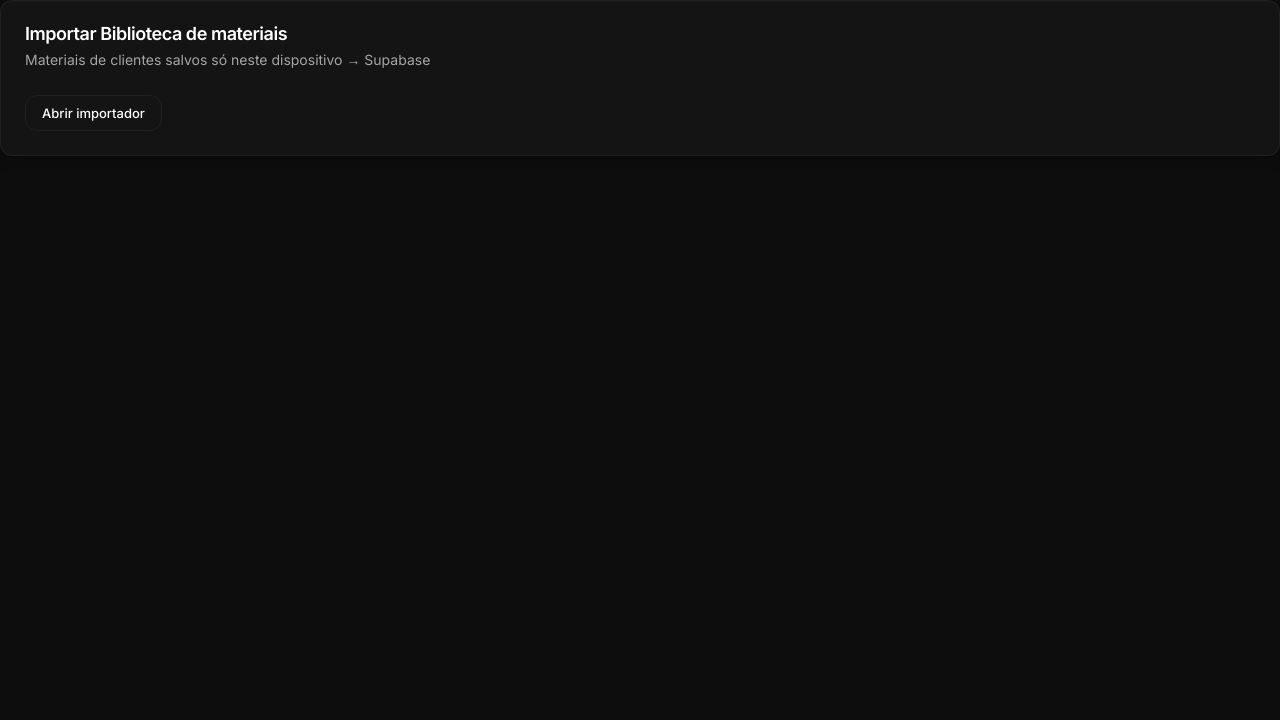
it: ClientLibraryImportCard › sem candidatos: mensagem honesta de nada a importar
This screenshot has width=1280, height=720.
Click the button "Abrir importador": click(93, 113) top-left (25, 95), bottom-right (162, 131)
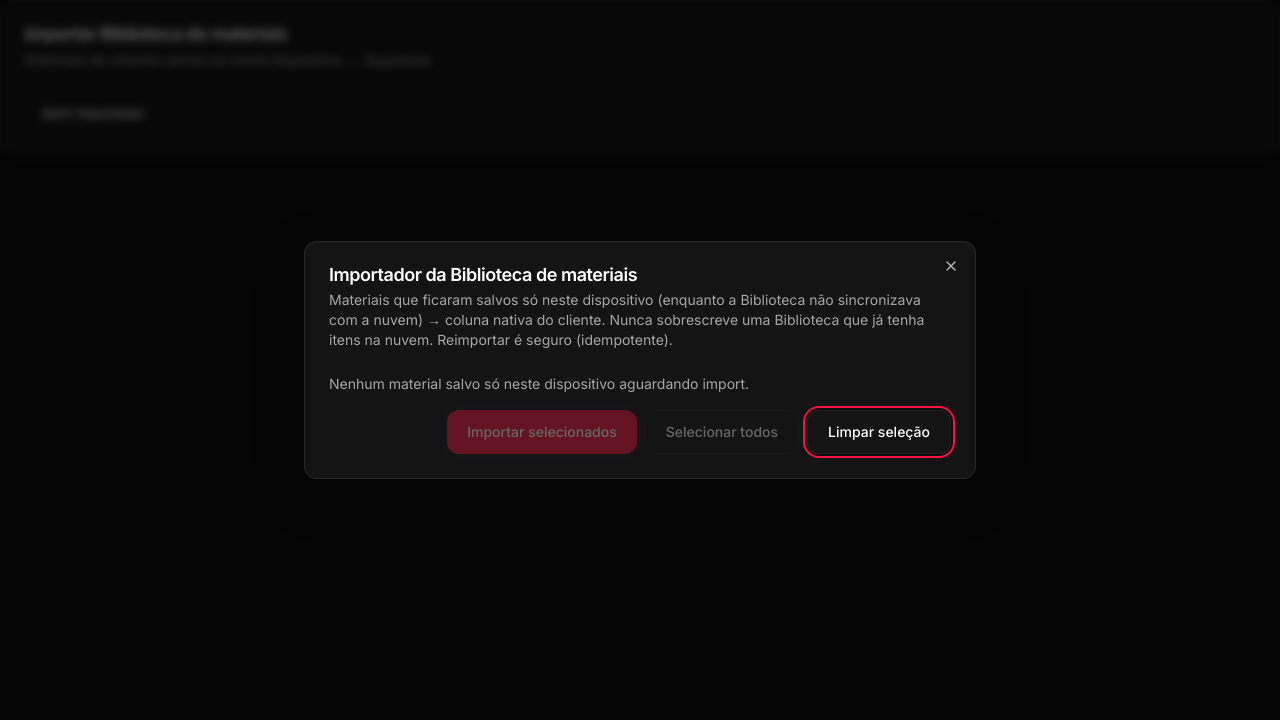
Result: the text "Nenhum material salvo só neste dispositivo" is shown at top-left (329, 375), bottom-right (749, 392)
